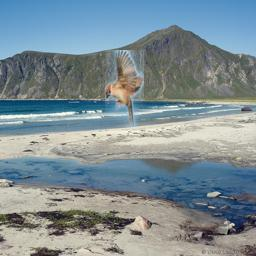Sparrow: (105, 50, 144, 127)
